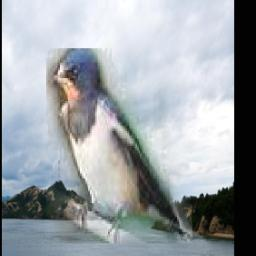Swallow: (47, 48, 193, 243)
